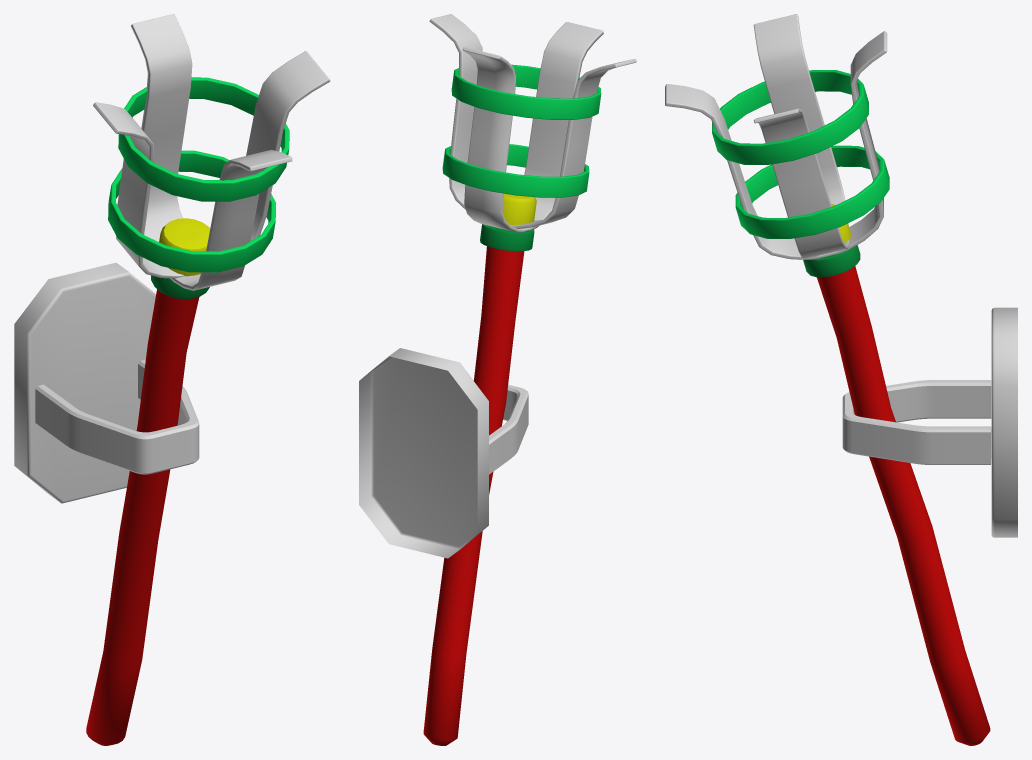
File: Torch.fbx
3 views of the same model, side by side, from view 1: azimuth 30°, elevation 25°; view 2: azimuth 150°, elevation 25°; view 3: azimuth 270°, elevation 25° (orthographic). The views are drawn at different scales.
Parts seen in each view (by area): view 1: torch3, torch5, torch2, torch1, torch4; view 2: torch5, torch3, torch2, torch1, torch4; view 3: torch3, torch1, torch4, torch5, torch2.
Part boxes in pixels (left/top/right/bottom): torch3: left=86, top=77, right=289, bottom=745; torch5: left=14, top=262, right=155, bottom=503; torch2: left=131, top=14, right=292, bottom=290; torch1: left=93, top=51, right=330, bottom=278; torch4: left=35, top=359, right=199, bottom=474; torch5: left=359, top=348, right=488, bottom=558; torch3: left=423, top=64, right=601, bottom=745; torch2: left=462, top=22, right=603, bottom=232; torch1: left=429, top=14, right=636, bottom=228; torch4: left=473, top=380, right=528, bottom=474; torch3: left=712, top=70, right=990, bottom=745; torch1: left=753, top=14, right=848, bottom=258; torch4: left=842, top=380, right=991, bottom=464; torch5: left=991, top=307, right=1017, bottom=537; torch2: left=665, top=31, right=887, bottom=259.
Bounding box in the file's own units: 99.16 × 152 × 335.
